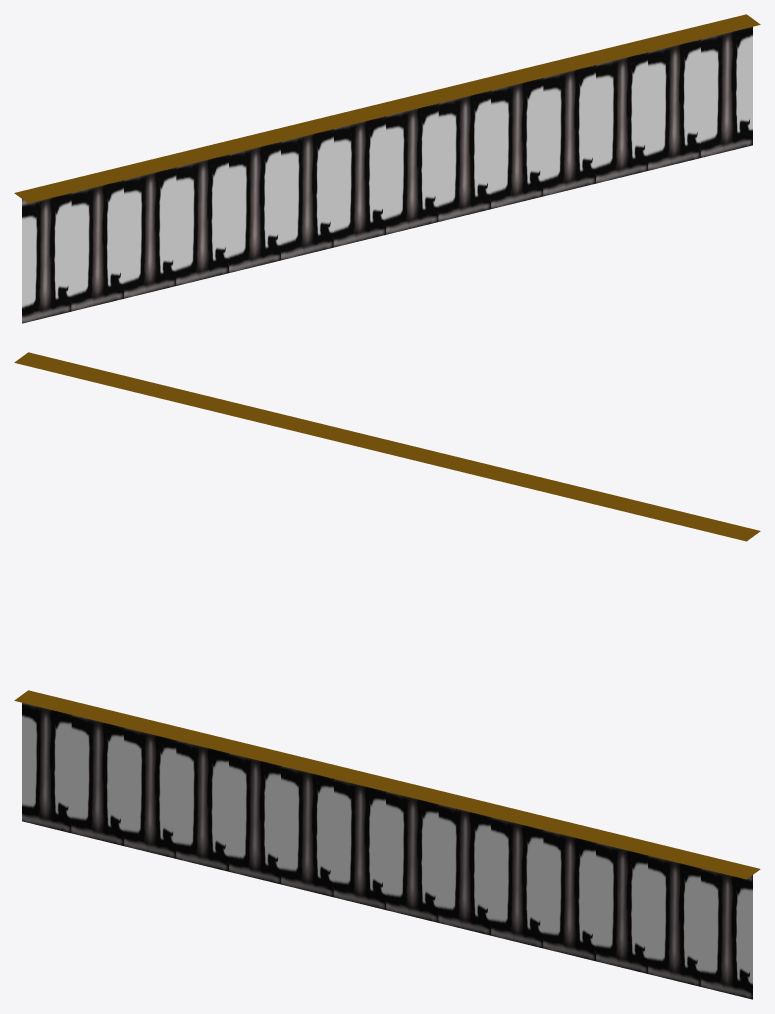
File: Geländer3Hoch [Metallstäbe]_1021.glb
3 renders of one model, top to bottom at view 1: azimuth 30°, elevation 25°; view 2: azimuth 150°, elevation 25°; view 3: azimuth 330°, elevation 25°, orthographic.
Parts seen in each view (by area): view 1: pPlaneShape223, pPlaneShape224; view 2: pPlaneShape224; view 3: pPlaneShape223, pPlaneShape224.
Boxes of the visible parts, x1=… form: pPlaneShape223: x1=22, y1=27, x2=752, y2=323; pPlaneShape224: x1=14, y1=14, x2=760, y2=203; pPlaneShape224: x1=14, y1=352, x2=760, y2=541; pPlaneShape223: x1=22, y1=703, x2=752, y2=999; pPlaneShape224: x1=14, y1=690, x2=760, y2=879.
Bounding box in the file's own units: 0.7175 × 0.1175 × 0.0243.
2 materials, 1 textured.
